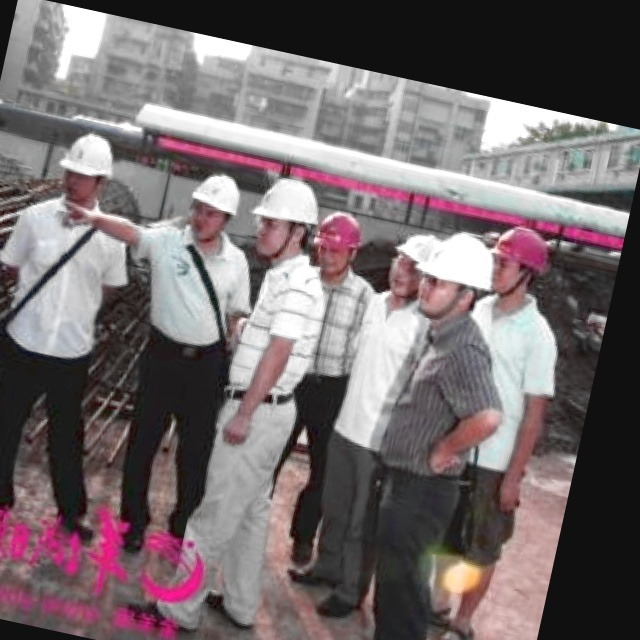Con_Casco: (242, 168, 324, 267), (178, 167, 244, 251)
